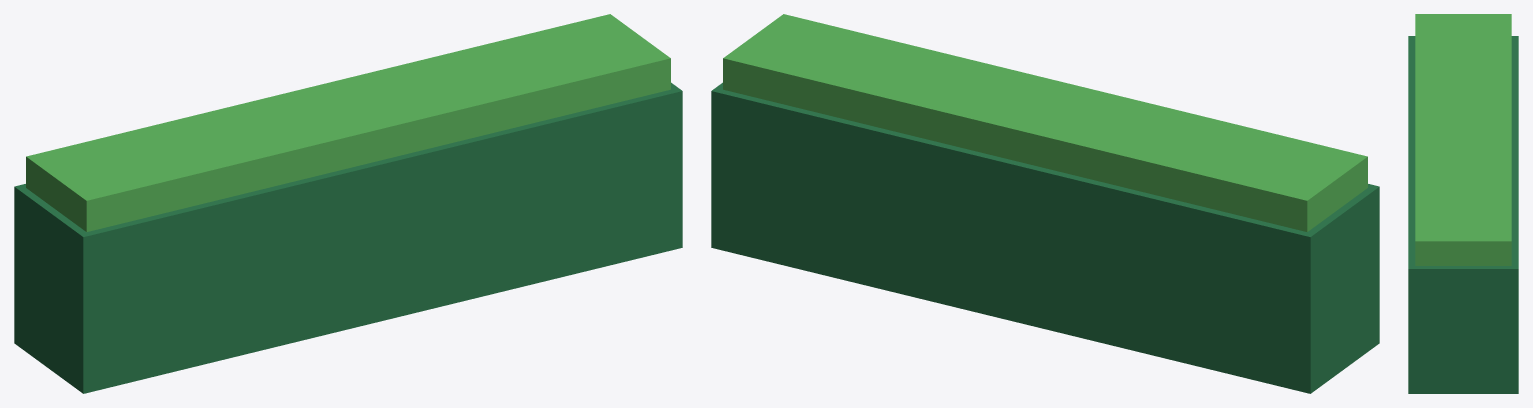
File: mdl_z3_seto.fbx
3 renders of one model, left to right at view 1: azimuth 30°, elevation 25°; view 2: azimuth 150°, elevation 25°; view 3: azimuth 270°, elevation 25°, orthographic. The views are drawn at different scales.
Parts seen in each view (by area): view 1: mdl_z3_seto; view 2: mdl_z3_seto; view 3: mdl_z3_seto.
Boxes of the visible parts, left/top/right/bottom form: mdl_z3_seto: left=14, top=14, right=682, bottom=393; mdl_z3_seto: left=711, top=14, right=1379, bottom=393; mdl_z3_seto: left=1408, top=14, right=1518, bottom=393.
Size of the model in its own units: 800 by 240 by 160.
